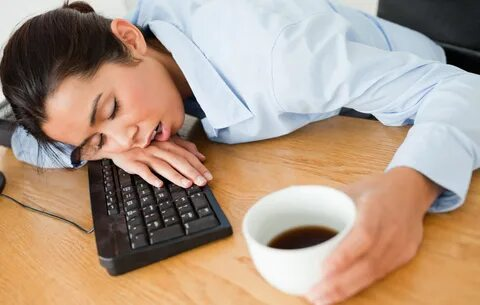sleep: (1, 1, 479, 188)
